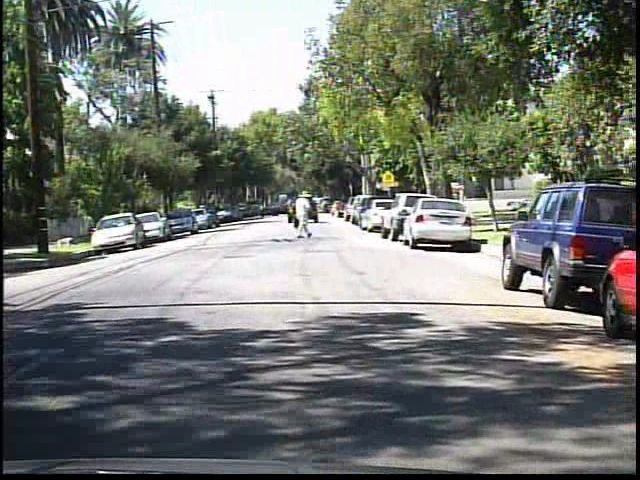person: (289, 190, 318, 241)
